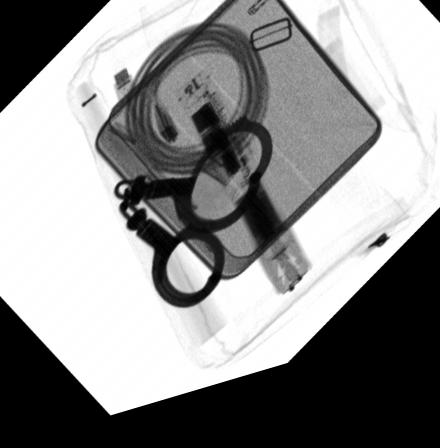Baton: (173, 76, 314, 314)
HandCuffs: (111, 126, 273, 321)
